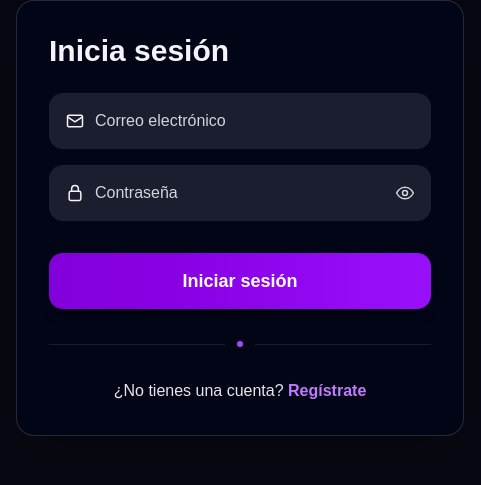
LoginForm › should reject an empty email
Click the button "Iniciar sesión" at [240, 281], box [49,253,431,309]
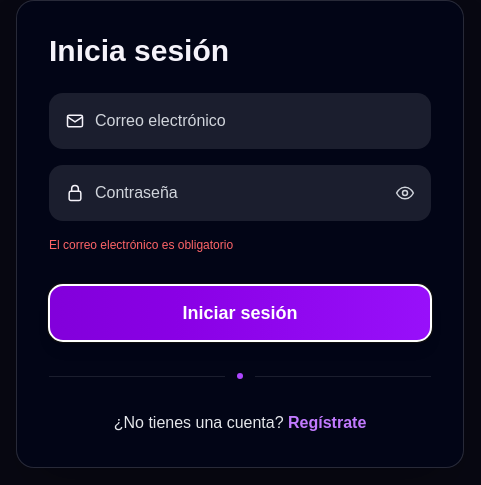
Check: the message reads "El correo electrónico es obligatorio", box [49,238,233,252]
